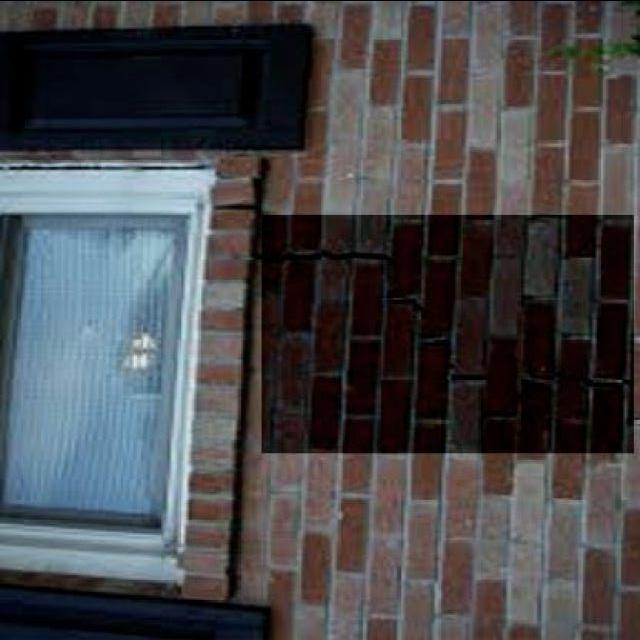SurfaceCrack: (248, 230, 632, 456)
